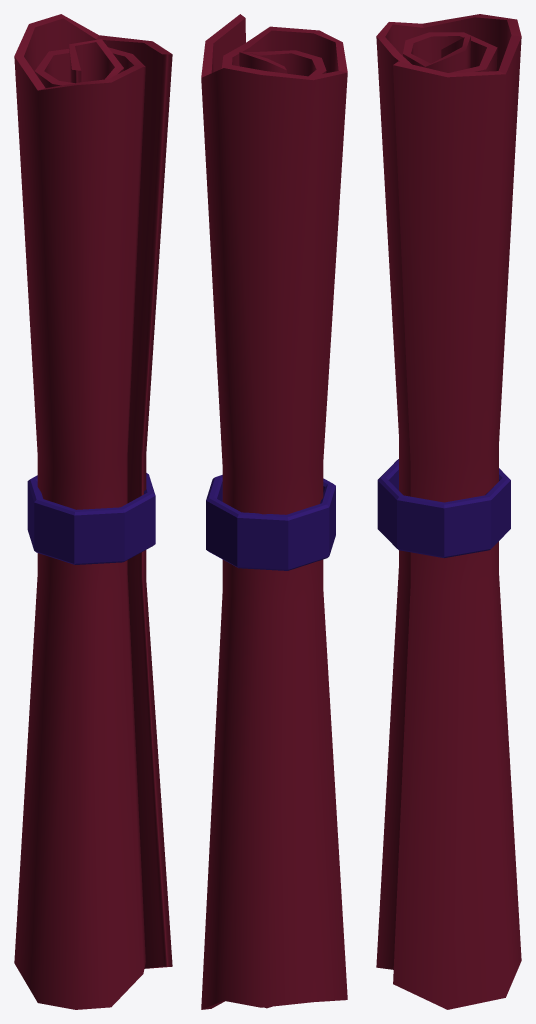
File: MESH_Parchment.fbx
The picture shows the model from 3 angles, left to right: view 1: azimuth 30°, elevation 25°; view 2: azimuth 150°, elevation 25°; view 3: azimuth 270°, elevation 25°; orthographic projection.
Visible parts, largest first — view 1: MESH_Parchment; view 2: MESH_Parchment; view 3: MESH_Parchment.
Boxes of the visible parts, x1,y1,x2,y2 form: MESH_Parchment: (14,14,172,1009); MESH_Parchment: (201,14,347,1009); MESH_Parchment: (376,14,521,1009).
Size of the model in its own units: 0.0671 by 0.4729 by 0.0658.
